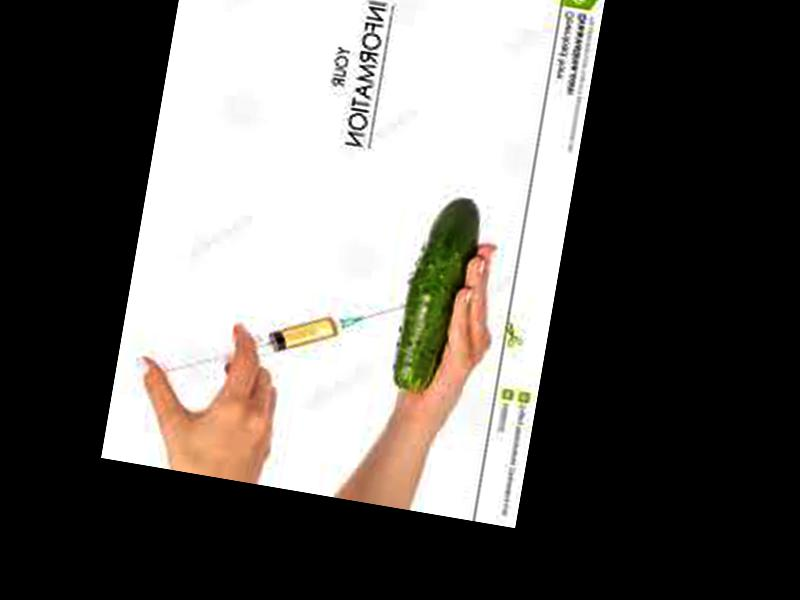Cucumber: (391, 191, 483, 398)
